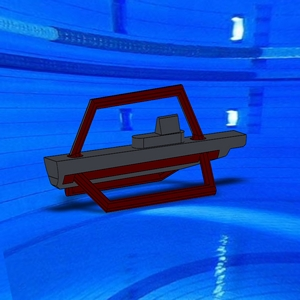submarine: (38, 79, 253, 227)
